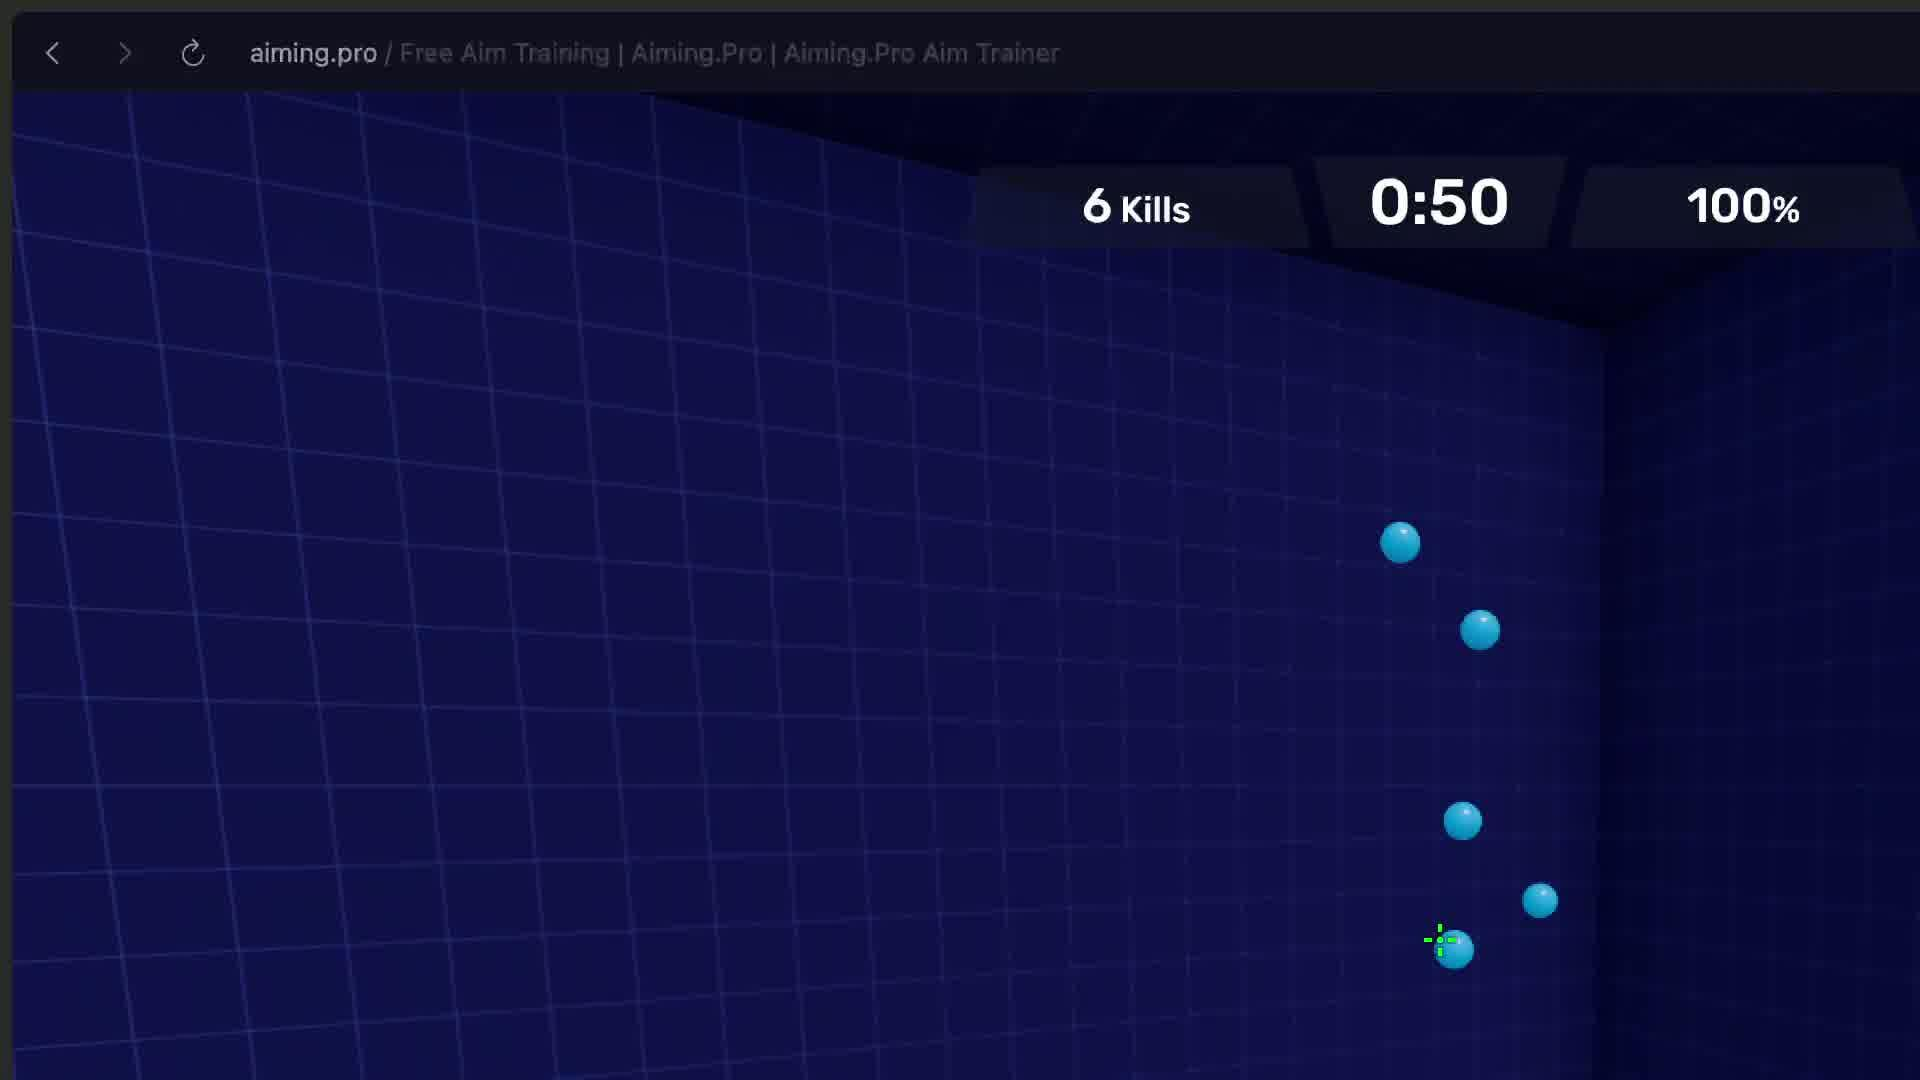target: (1423, 923, 1474, 969), (1379, 521, 1420, 563), (1443, 800, 1484, 840), (1461, 611, 1501, 650), (1382, 524, 1418, 562), (1522, 882, 1557, 918)
